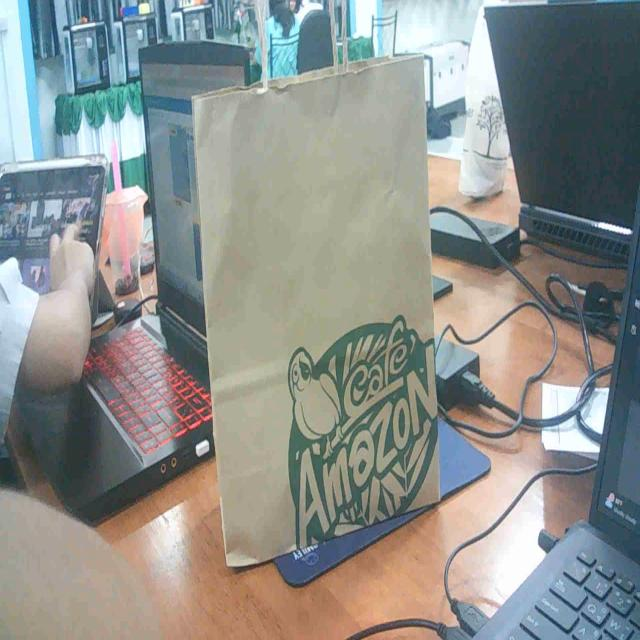bag: (196, 66, 438, 531)
